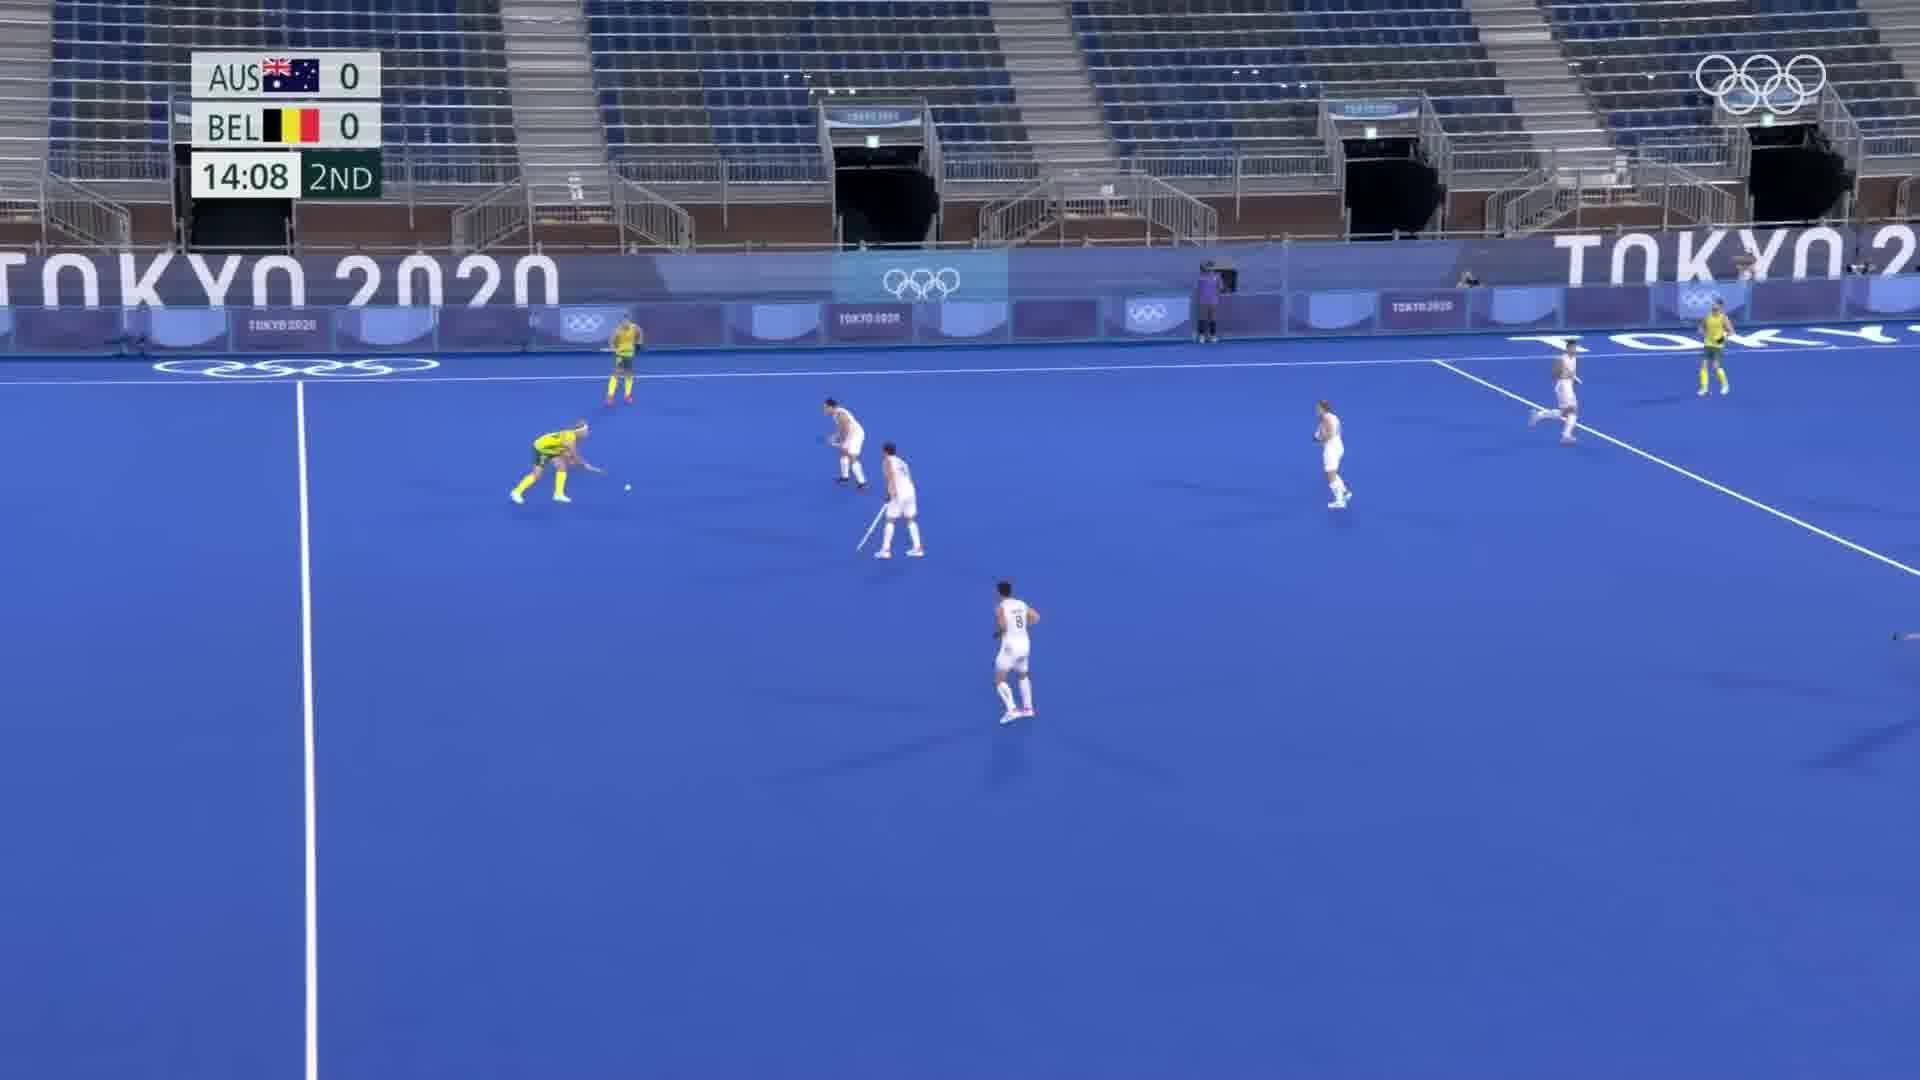ball: (618, 480, 637, 495)
